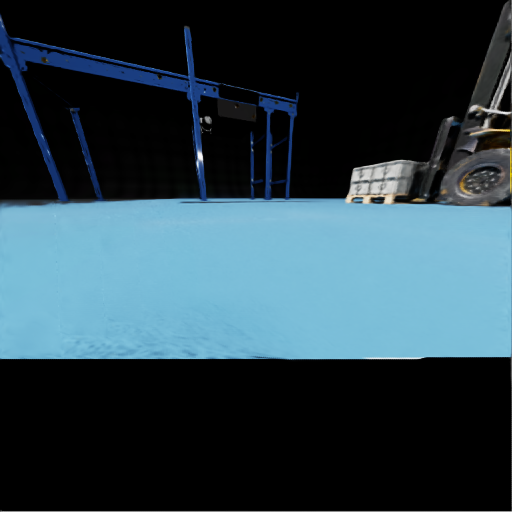transportation_area: (368, 178, 421, 194), (361, 166, 362, 168)
